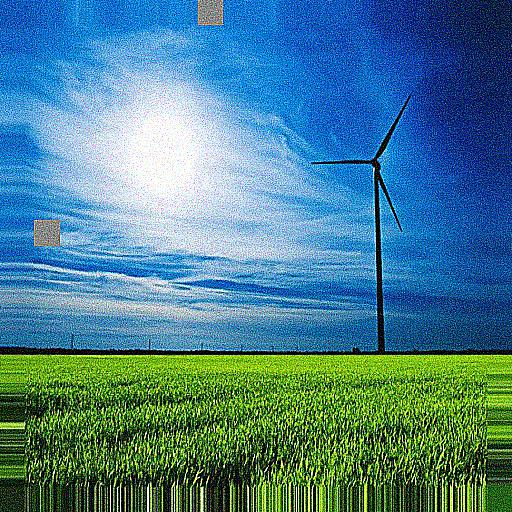wind turbine: (305, 87, 417, 355)
